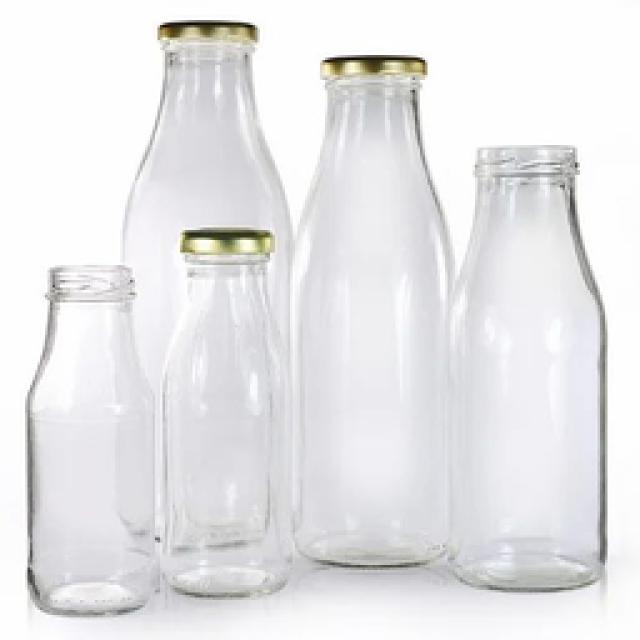glass_beverage_bottles: (448, 136, 612, 586), (306, 46, 436, 566), (33, 262, 160, 620)
